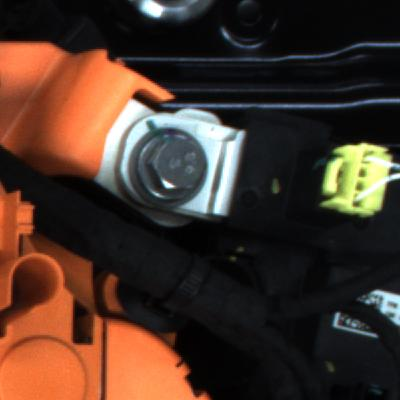nut_b: (111, 121, 217, 213)
